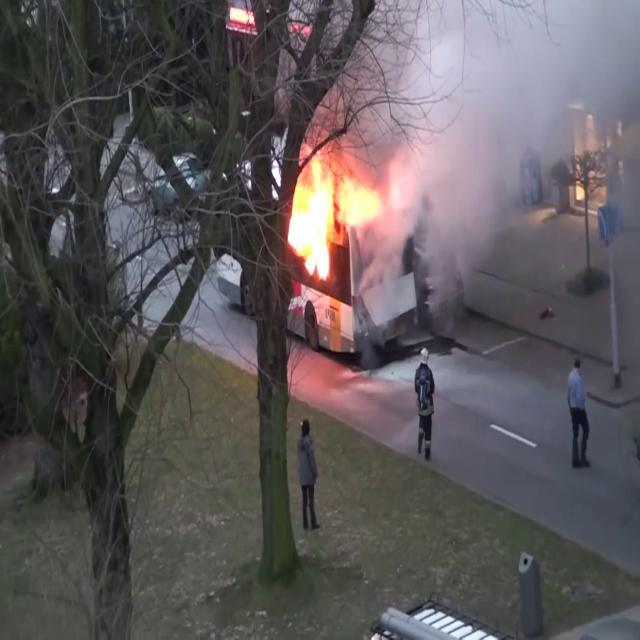Fire: (281, 150, 398, 290)
Smoke: (352, 0, 627, 268)
